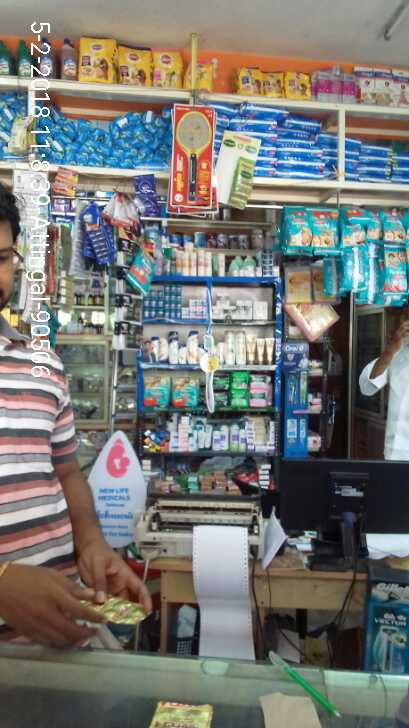oralcare: (283, 343, 310, 450)
vicks: (144, 284, 206, 319)
